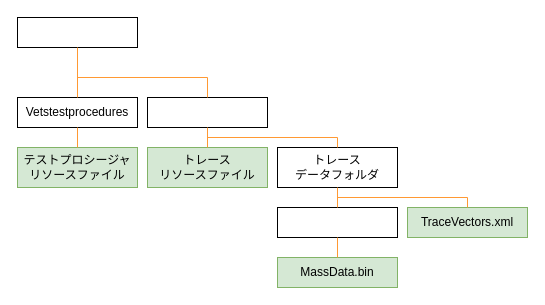
This 545x305 diagram has some shape labels left out. The centre of each missing label's shape, as x and y in pixels:
"TraceVectors" goes at [337,222].
"VETS Data" goes at [77,32].
"Vetstraces" goes at [207,112].
